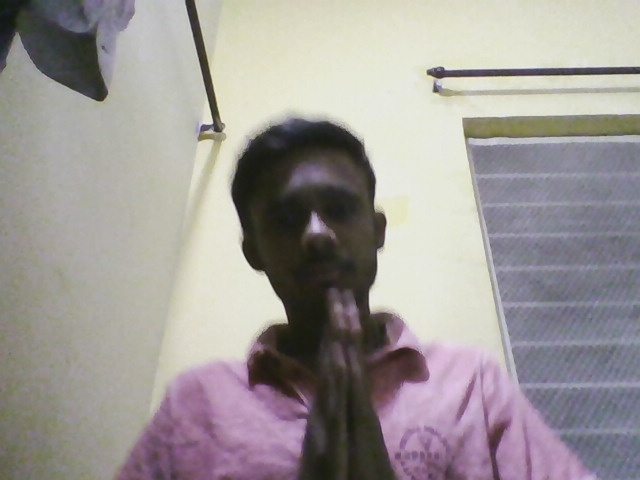thankyou: (295, 290, 406, 475)
